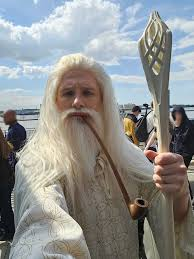gandalf gray: (24, 46, 192, 247)
